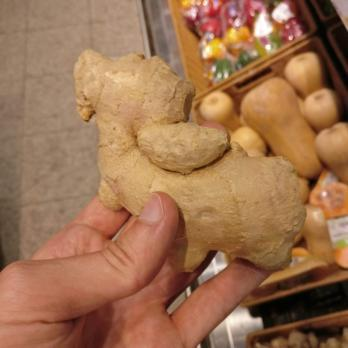Ginger: (72, 44, 308, 269)
